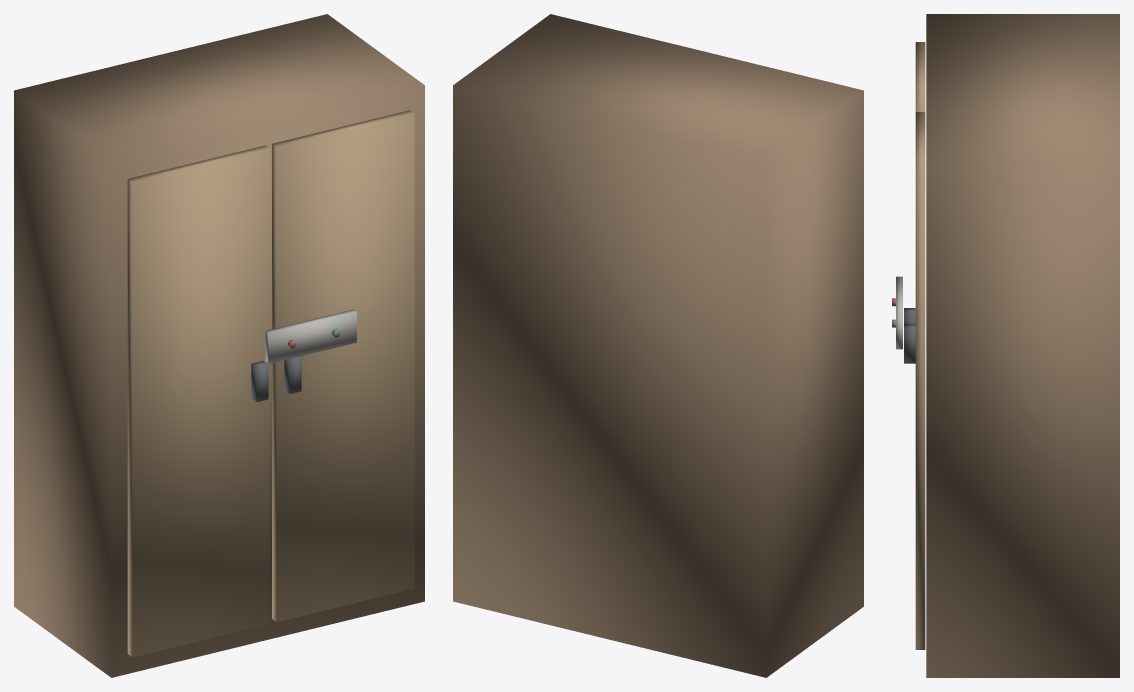
Rendered from evidence_cabinet__compact.glb.
3 renders of one model, left to right at view 1: azimuth 30°, elevation 25°; view 2: azimuth 150°, elevation 25°; view 3: azimuth 270°, elevation 25°, orthographic.
Visible parts, largest first — view 1: world; view 2: world; view 3: world.
Boxes of the visible parts, x1,y1,x2,y2 form: world: (14,14,424,677); world: (453,14,863,677); world: (892,14,1119,677).
Size of the model in its own units: 0.798 by 1.26 by 0.5061.
